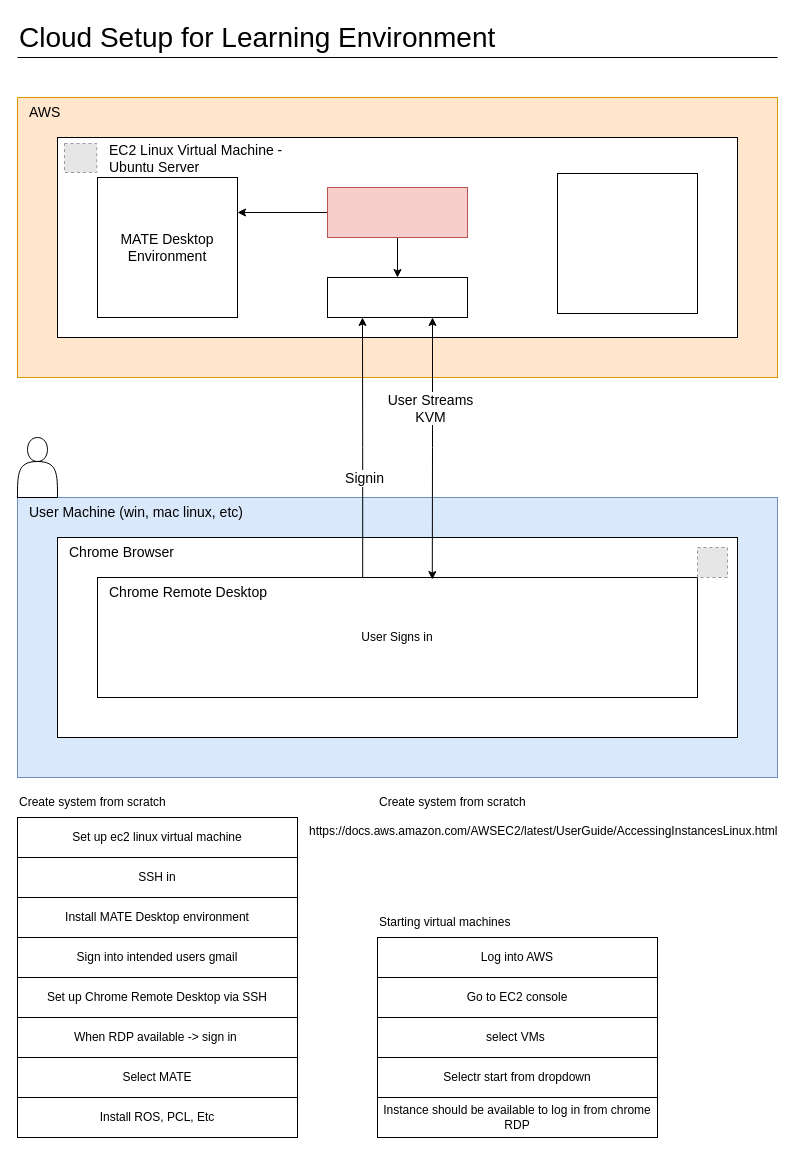
This 796x1155 diagram has some shape labels left out. Grey dashed boxes stand in for pictures. The centre of each missing label's shape, as x and y in pixels:
Chrome RDP Script: the point at 397,297
ROS, PCL, Gazebo, Other Packages: the point at 627,243
SSH and install these: the point at 397,212
